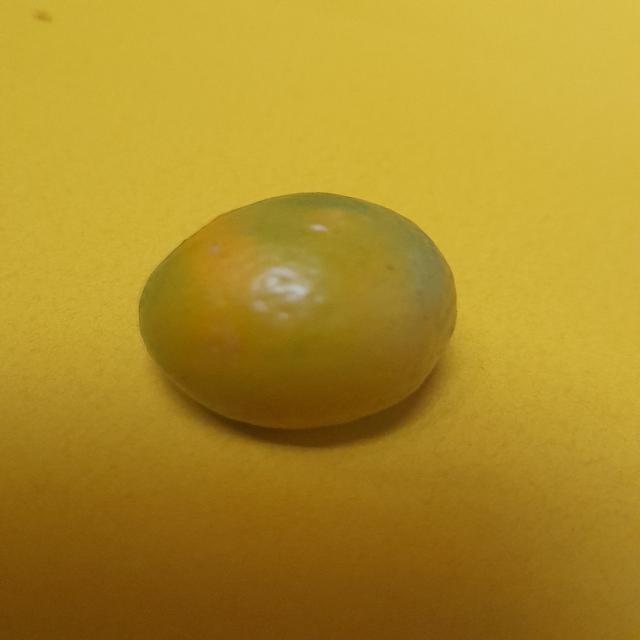greening: (136, 187, 461, 435)
